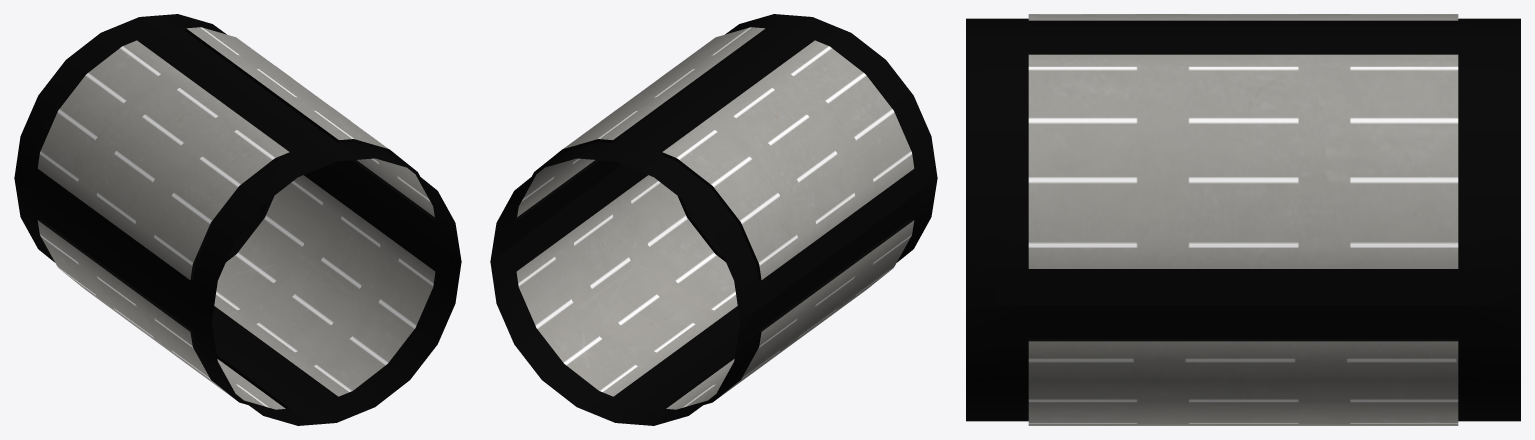
The model's file is straight_window.fbx.
3 renders of one model, left to right at view 1: azimuth 30°, elevation 25°; view 2: azimuth 150°, elevation 25°; view 3: azimuth 270°, elevation 25°, orthographic. The views are drawn at different scales.
Visible parts, largest first — view 1: polySurface5, polySurface1; view 2: polySurface5, polySurface1; view 3: polySurface5, polySurface1.
Boxes of the visible parts, x1,y1,x2,y2 form: polySurface5: (37, 27, 435, 409); polySurface1: (14, 14, 461, 425); polySurface5: (516, 27, 914, 409); polySurface1: (490, 14, 937, 425); polySurface5: (1028, 14, 1458, 425); polySurface1: (966, 18, 1520, 421).
Size of the model in its own units: 76 by 76 by 104.
